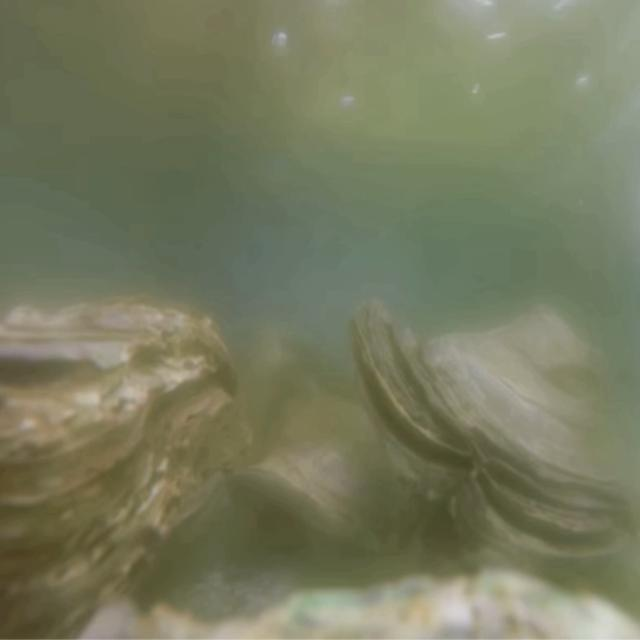Oyster-Closed: (0, 301, 256, 640)
Oyster-Indeterminate: (240, 394, 424, 560)
Oyster-Open: (347, 297, 640, 582)
